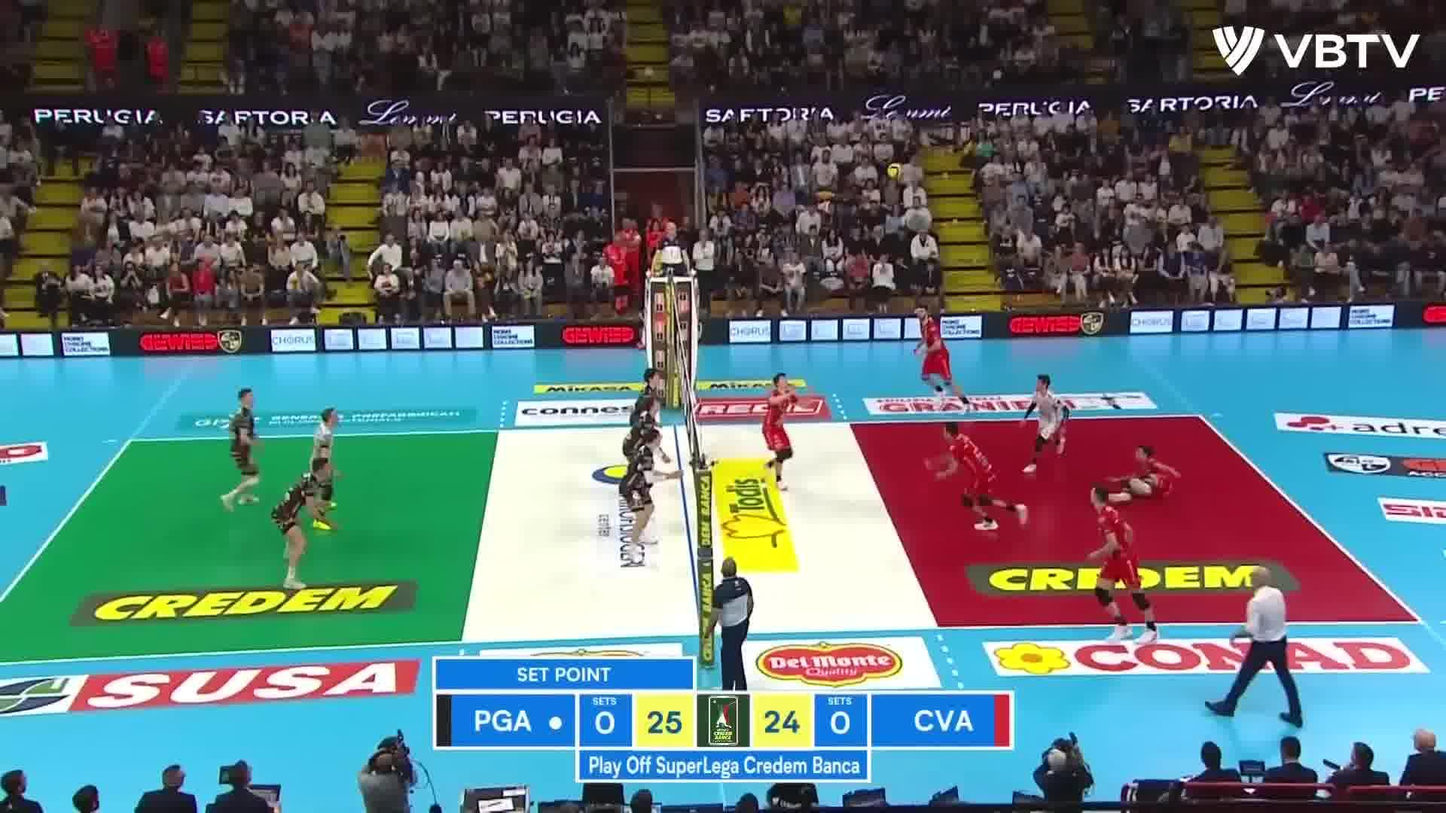balls: (886, 163, 903, 181)
